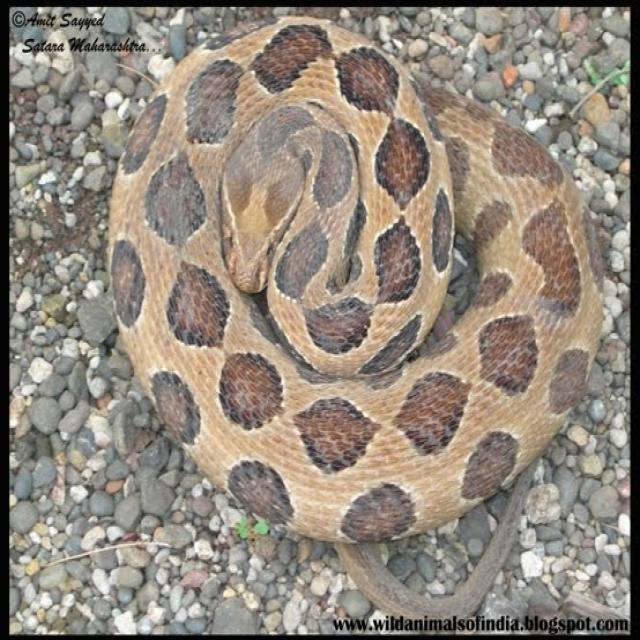Snake: (105, 12, 604, 624)
